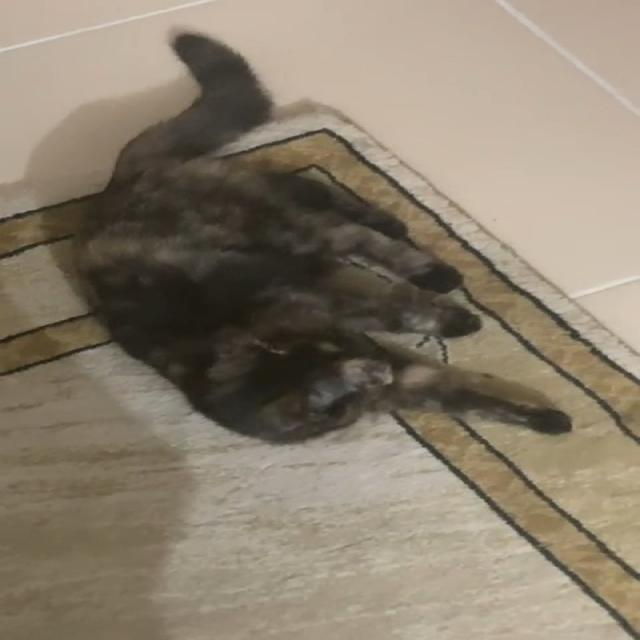authorized: (68, 27, 573, 445)
